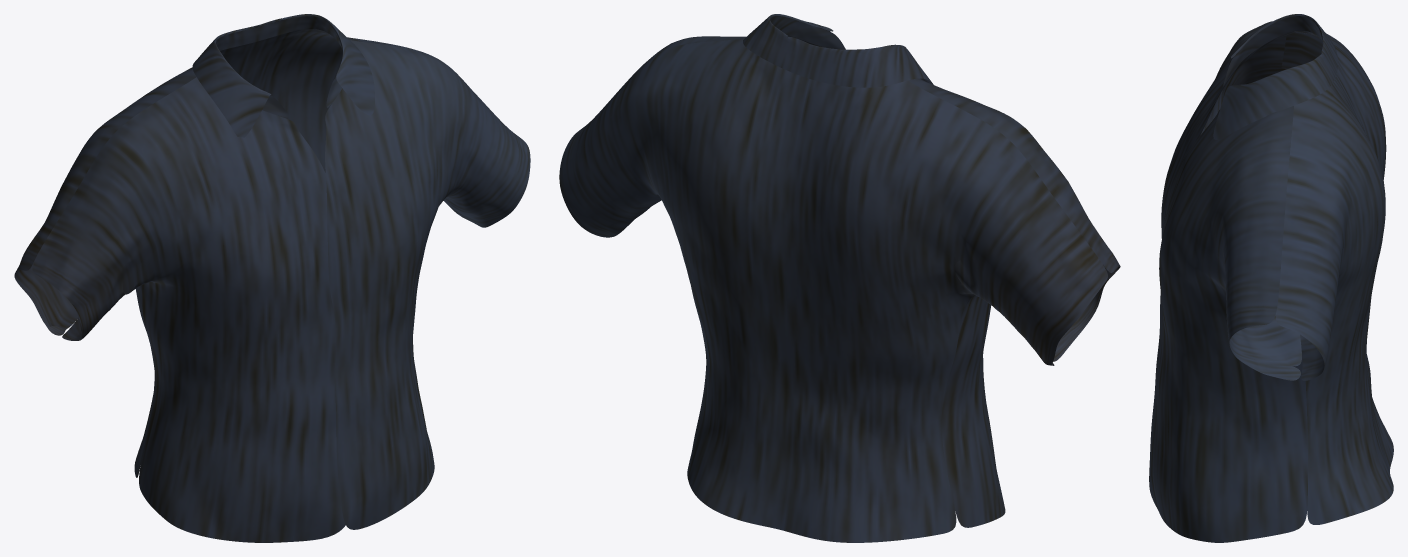
Rendered from SM_SMM.dae.
The picture shows the model from 3 angles, left to right: view 1: azimuth 30°, elevation 25°; view 2: azimuth 150°, elevation 25°; view 3: azimuth 270°, elevation 25°; orthographic projection. The views are drawn at different scales.
Parts seen in each view (by area): view 1: shortshirt; view 2: shortshirt; view 3: shortshirt.
Part boxes in pixels (bbox=[...]): shortshirt: bbox=[14, 14, 530, 542]; shortshirt: bbox=[559, 14, 1120, 542]; shortshirt: bbox=[1149, 14, 1393, 542].
Size of the model in its own units: 6.49 by 5.7 by 2.75.
